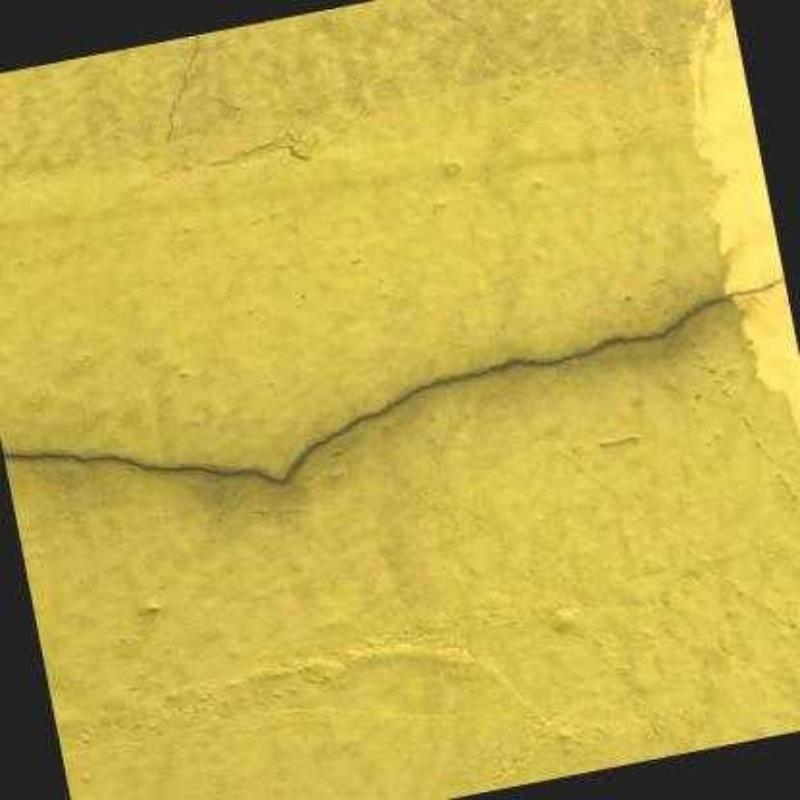pothole: (2, 279, 784, 483)
